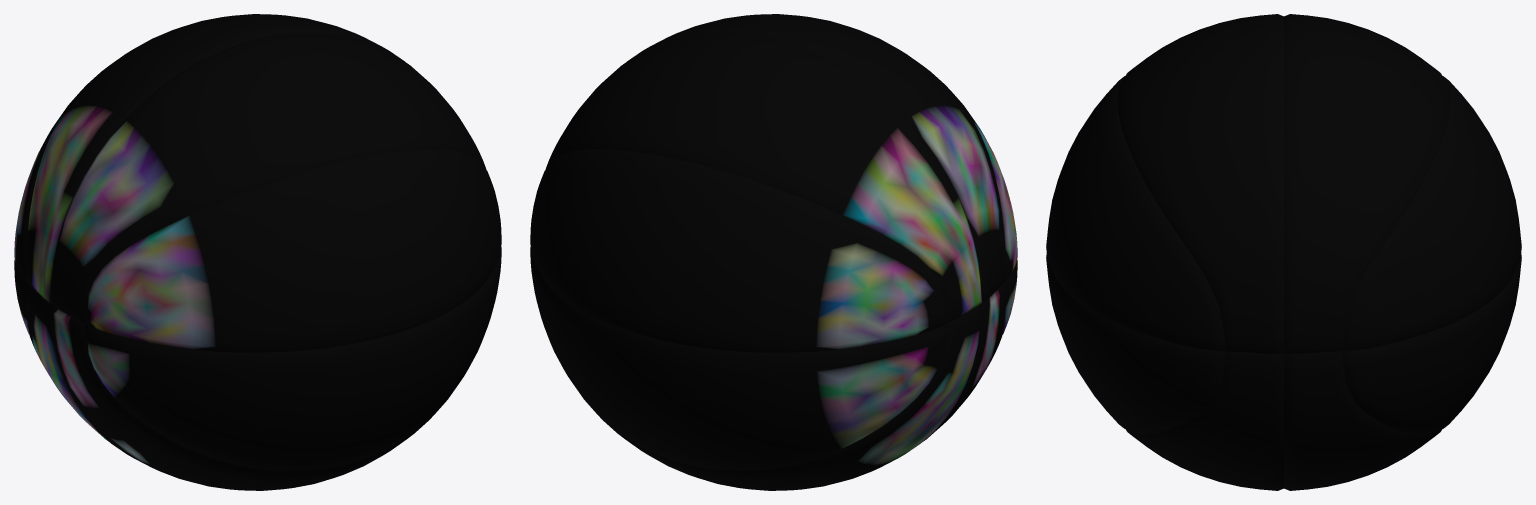
File: Ball_Basketball_SM.gltf
The picture shows the model from 3 angles, left to right: view 1: azimuth 30°, elevation 25°; view 2: azimuth 150°, elevation 25°; view 3: azimuth 270°, elevation 25°; orthographic projection.
Visible parts, largest first — view 1: Ball_Basketball_SM; view 2: Ball_Basketball_SM; view 3: Ball_Basketball_SM.
Part boxes in pixels (x1,y1,x2,y2): Ball_Basketball_SM: (14, 14, 501, 490); Ball_Basketball_SM: (530, 14, 1017, 490); Ball_Basketball_SM: (1046, 14, 1521, 490).
Size of the model in its own units: 1.92 by 1.89 by 1.89.
